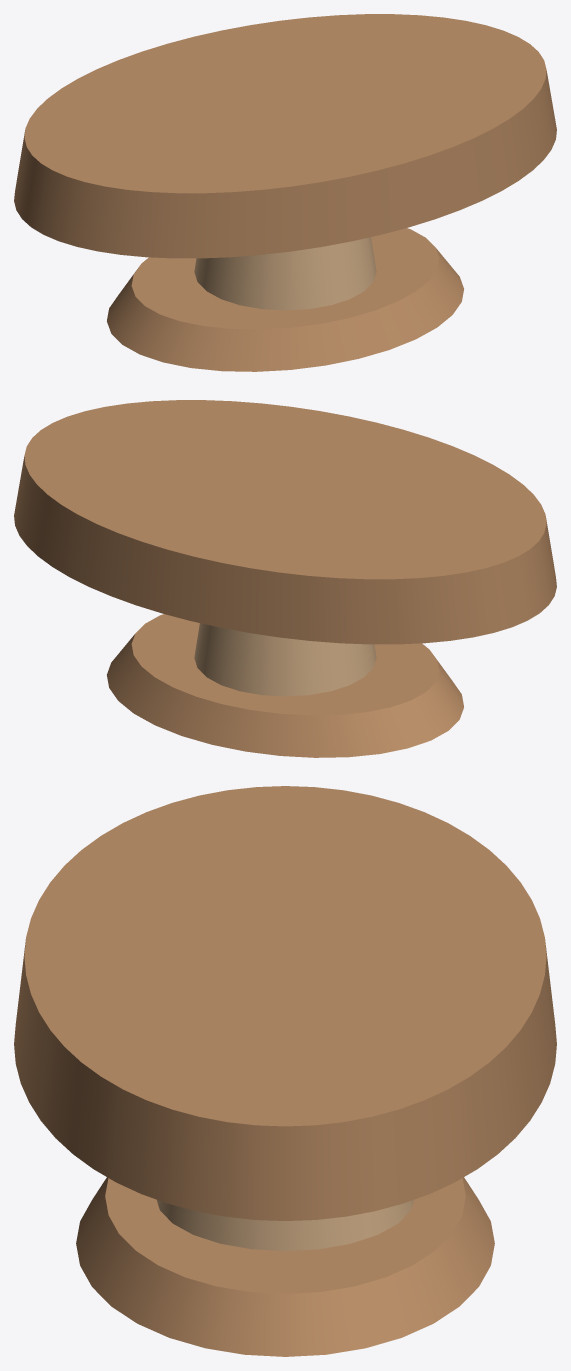
File: table-pebble.glb
The picture shows the model from 3 angles, top to bottom: view 1: azimuth 30°, elevation 25°; view 2: azimuth 150°, elevation 25°; view 3: azimuth 270°, elevation 25°; orthographic projection. The views are drawn at different scales.
Parts seen in each view (by area): view 1: wood (×2), edge; view 2: wood (×2), edge; view 3: wood (×2), edge.
Boxes of the visible parts, x1,y1,x2,y2 form: wood (×2): (14,14,556,371); edge: (194,237,376,310); wood (×2): (14,400,556,757); edge: (194,623,376,696); wood (×2): (14,786,556,1356); edge: (157,1200,413,1250).
Size of the model in its own units: 1.12 by 0.425 by 0.728.
